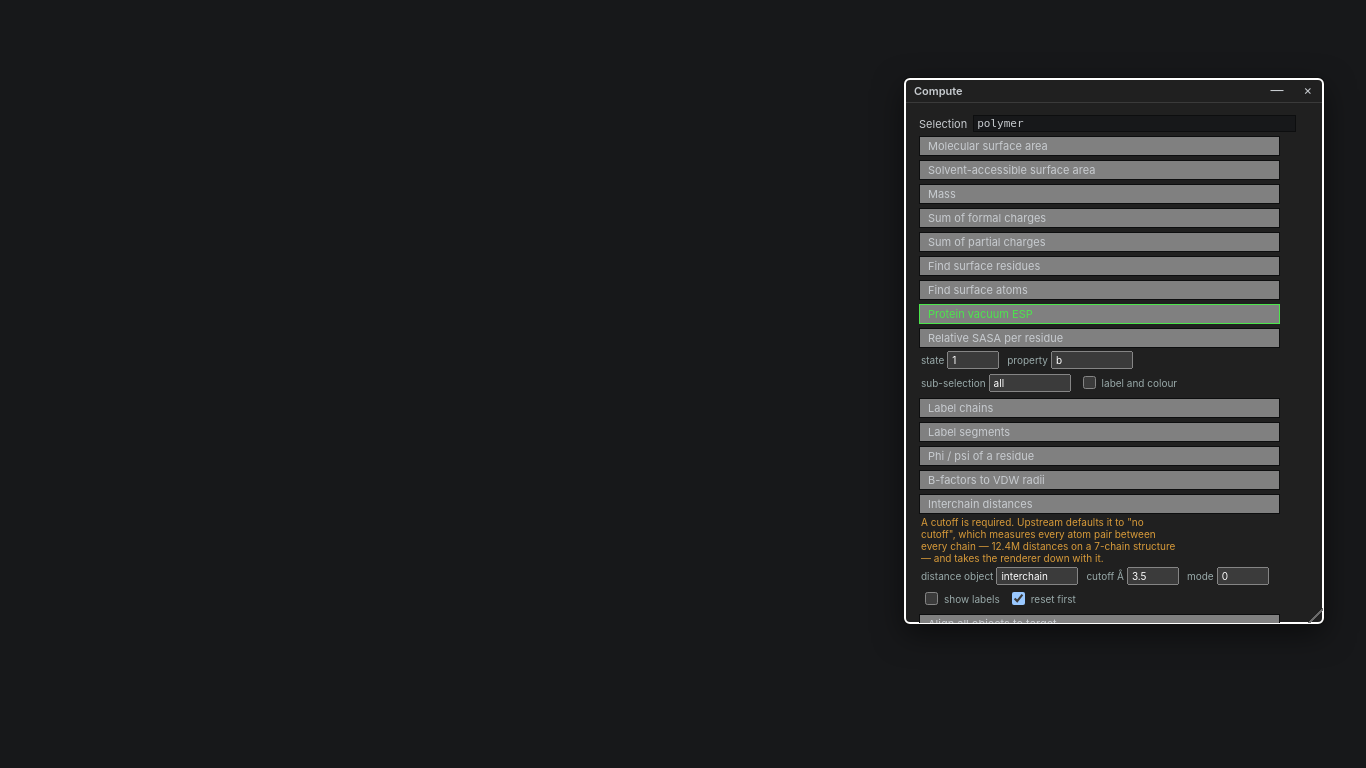
Test: the destructive helper (row 503) › does not attribute another helper output to this one
The image size is (1366, 768).
What coordinates should you click on to do the following:
click the button "Molecular surface area"
I would click on:
 (988, 146)
Its box is [919,136,1280,156].
Wait 810 ms
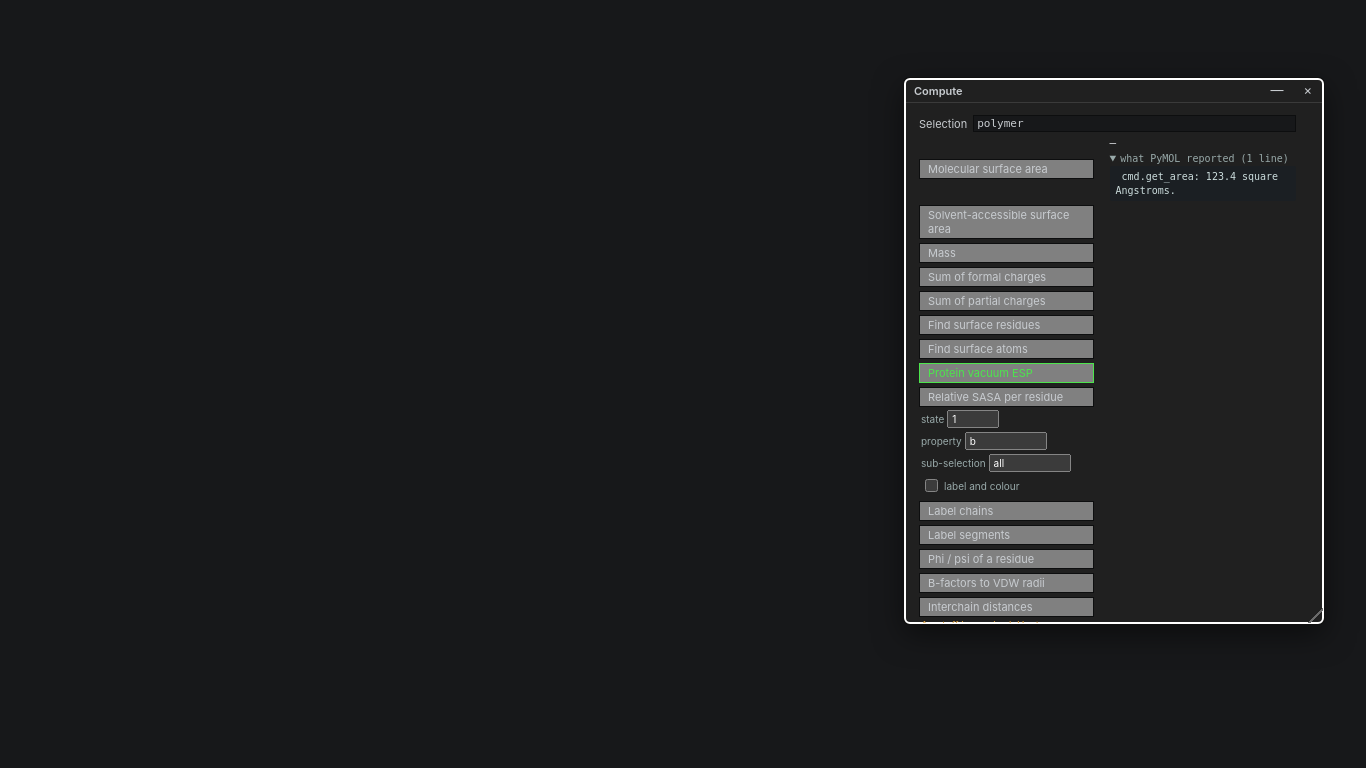
Check: the element that starts with "what PyMOL reported (" shows "123.4 square Angstroms", box [1116,171,1284,196]
